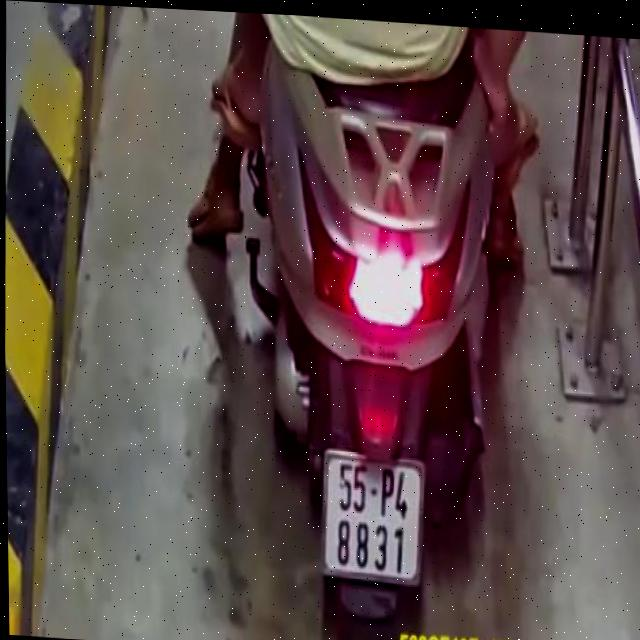motorcycle: (234, 42, 507, 640)
plate: (314, 441, 424, 588)
